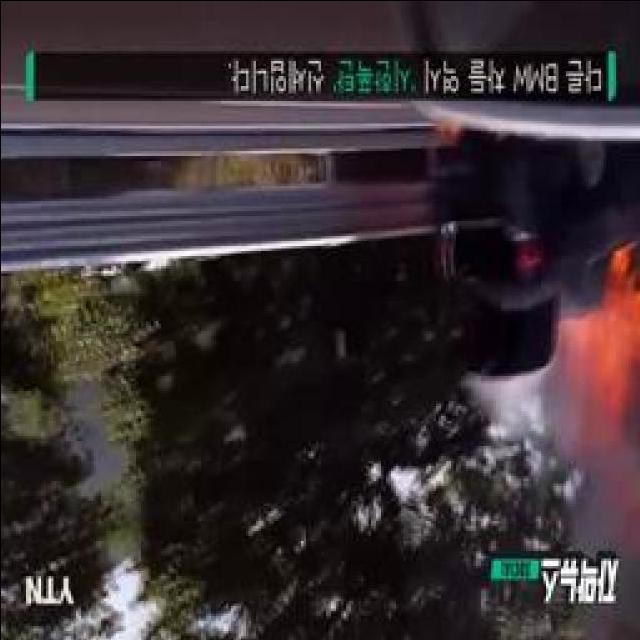Fire: (560, 240, 640, 421)
